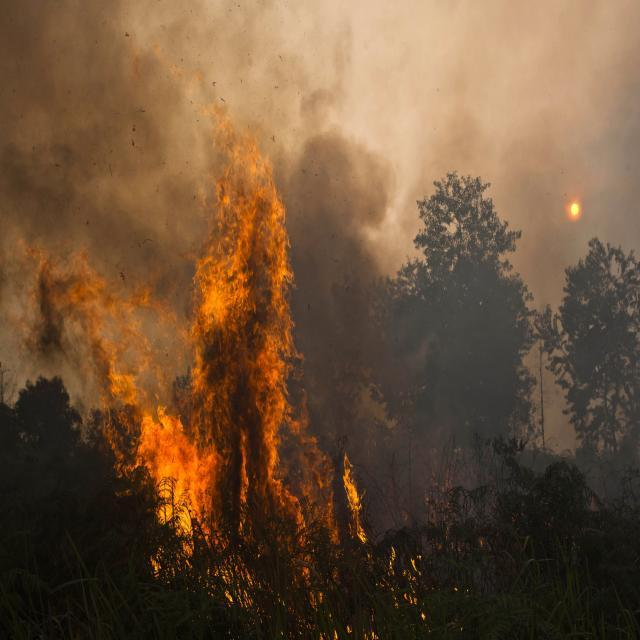Fire: (25, 88, 381, 620)
Smoke: (0, 0, 211, 315), (271, 118, 424, 534)
